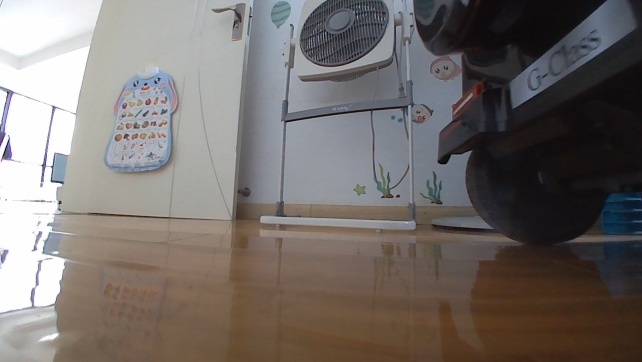door_anno: (55, 0, 254, 226)
